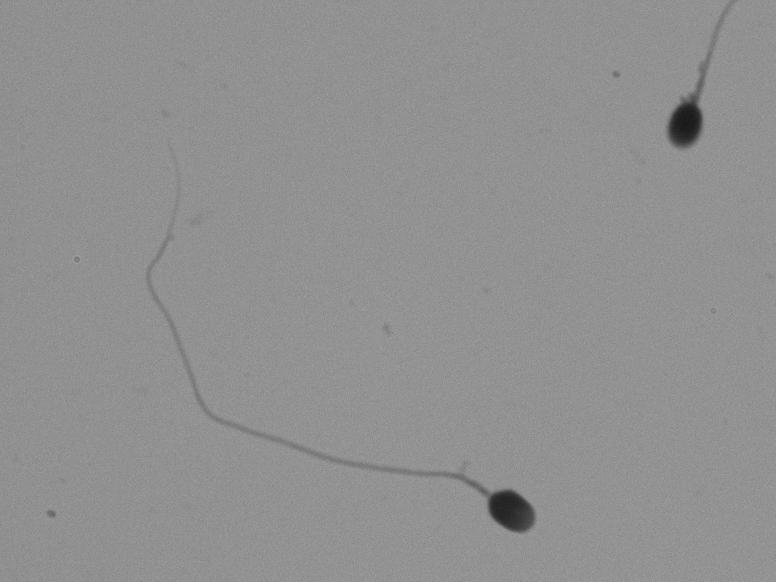Normal: (94, 154, 565, 565)
